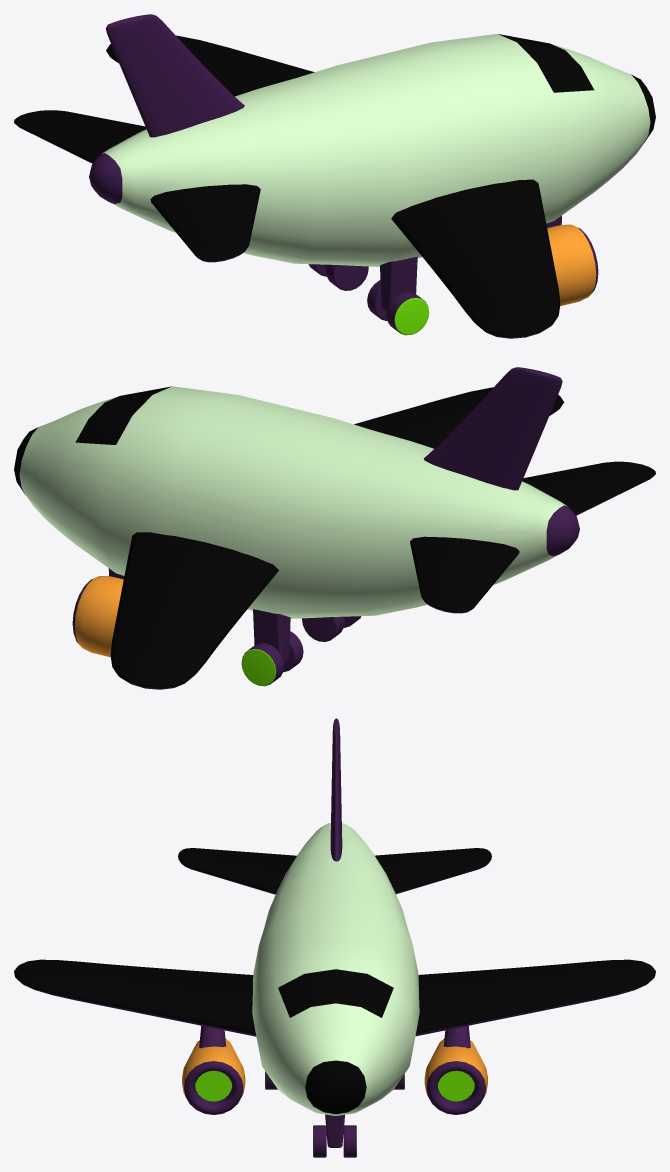
File: ToyObject_045.fbx
3 renders of one model, top to bottom at view 1: azimuth 30°, elevation 25°; view 2: azimuth 150°, elevation 25°; view 3: azimuth 270°, elevation 25°, orthographic. The views are drawn at different scales.
Parts seen in each view (by area): view 1: object-1.025; view 2: object-1.025; view 3: object-1.025.
Boxes of the visible parts, x1=… form: object-1.025: x1=14, y1=14, x2=655, y2=338; object-1.025: x1=14, y1=367, x2=655, y2=689; object-1.025: x1=14, y1=718, x2=655, y2=1157.
Bounding box in the file's own units: 0.1853 × 0.1088 × 0.2339.
